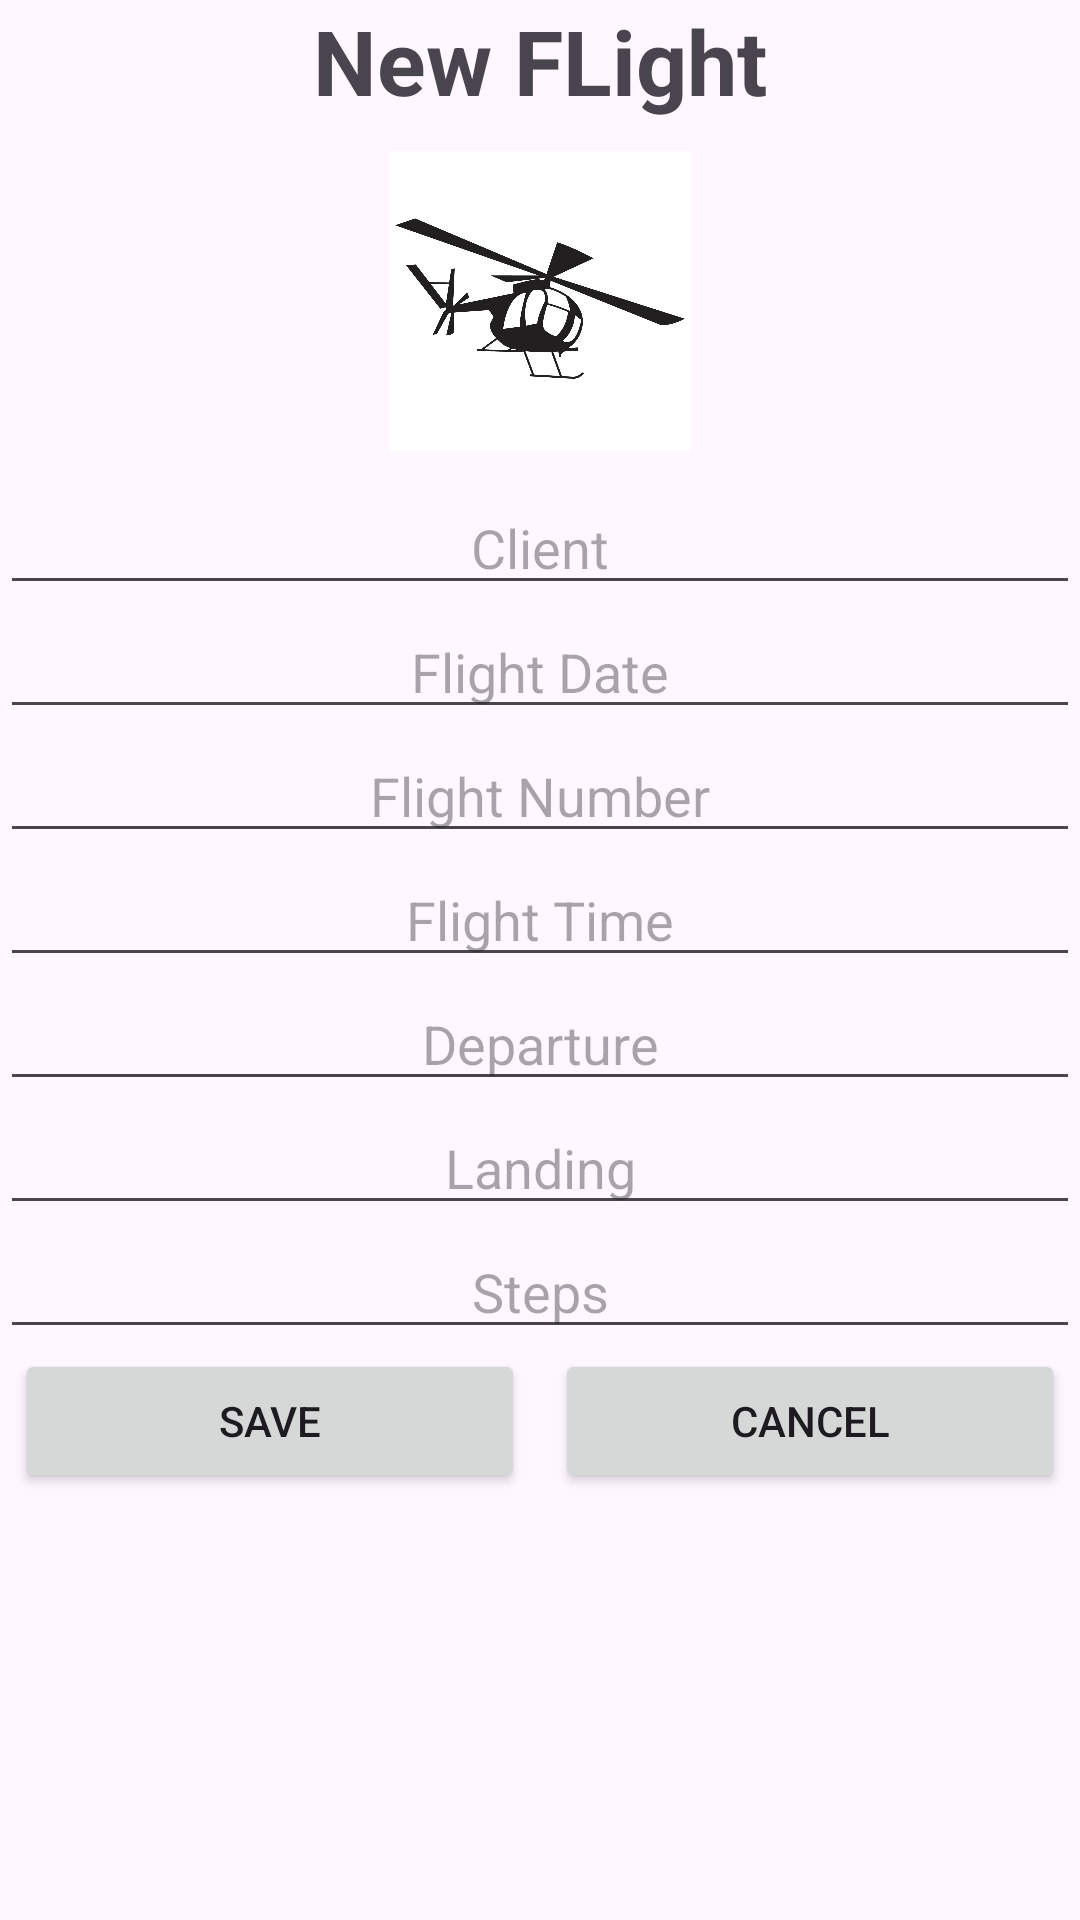

Icon click points for this 1080x1920 phone screenshot, format (x,y):
helicopter: (540,298)
